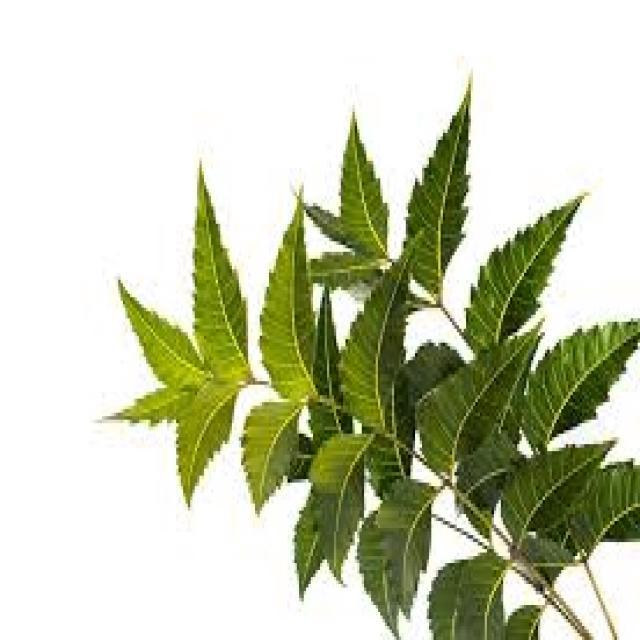Wet: (76, 68, 487, 572)
